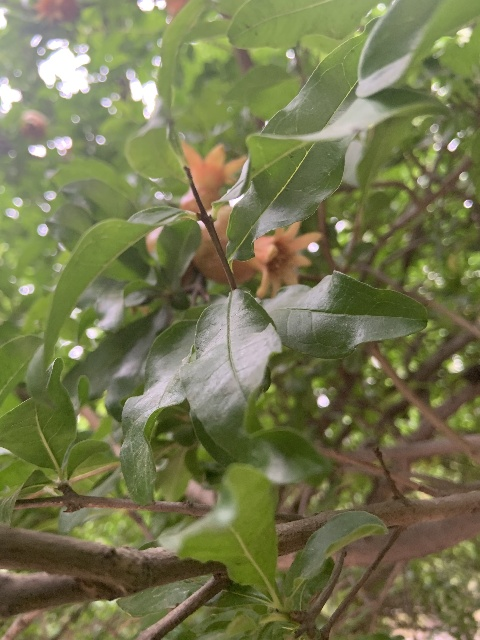early-fruit: (183, 201, 322, 300), (180, 139, 247, 213)
